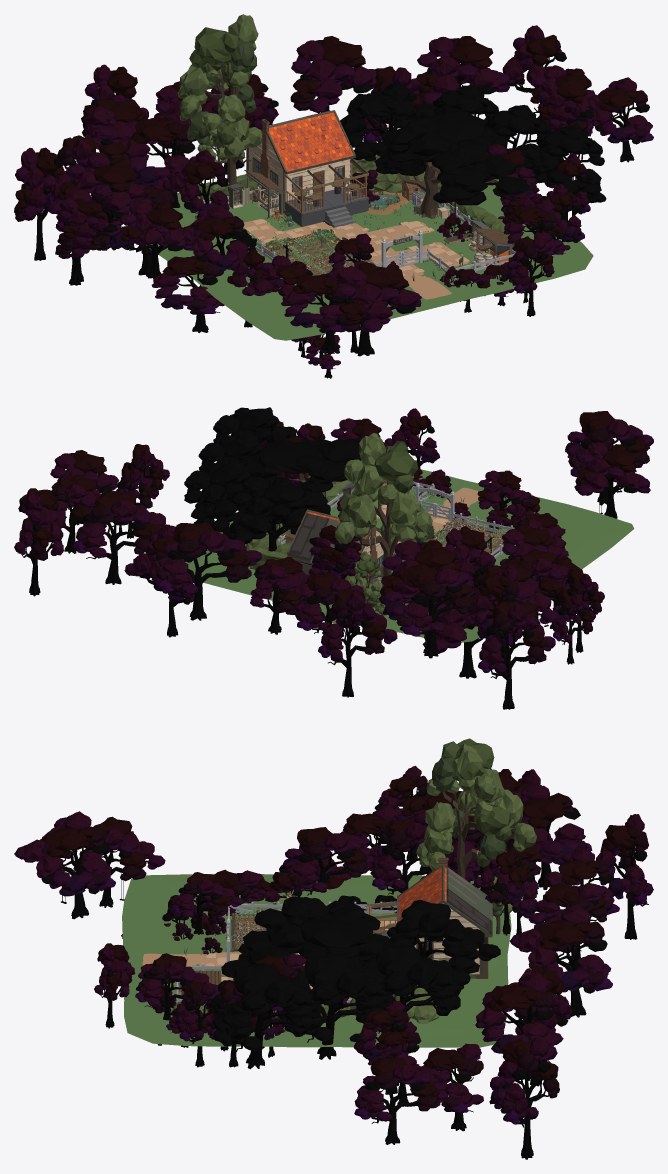
Rendered from Garden_Test-transformed.glb.
3 views of the same model, one above another, from view 1: azimuth 30°, elevation 25°; view 2: azimuth 150°, elevation 25°; view 3: azimuth 270°, elevation 25° (orthographic). The views are drawn at different scales.
Parts seen in each view (by area): view 1: Trees, ground, house, sidewalk, SM_Prop_Plant_Bush_03_Chilli14, garden_ALL_FARM_PACK_NEW_GARDEN_FENCE_SM_Prop_Fence_Fan_01d6, dark_tiles, SM_Bld_ProduceStand_03, Pond, SM_Bld_Shelter_03, SM_Prop_Chair_02; view 2: Trees, ground, house, garden_ALL_FARM_PACK_NEW_GARDEN_FENCE_SM_Prop_Fence_Fan_01d6, SM_Prop_Plant_Bush_03_Chilli14, sidewalk; view 3: Trees, ground, house, garden_ALL_FARM_PACK_NEW_GARDEN_FENCE_SM_Prop_Fence_Fan_01d6, SM_Prop_Plant_Bush_03_Chilli14, sidewalk.
Part boxes in pixels (x1=…): Trees: x1=14, y1=14, x2=653, y2=378; ground: x1=124, y1=179, x2=593, y2=340; house: x1=246, y1=110, x2=369, y2=227; sidewalk: x1=243, y1=219, x2=468, y2=299; SM_Prop_Plant_Bush_03_Chilli14: x1=257, y1=229, x2=373, y2=275; garden_ALL_FARM_PACK_NEW_GARDEN_FENCE_SM_Prop_Fence_Fan_01d6: x1=203, y1=171, x2=515, y2=278; dark_tiles: x1=245, y1=219, x2=469, y2=276; SM_Bld_ProduceStand_03: x1=435, y1=219, x2=514, y2=279; Pond: x1=365, y1=189, x2=408, y2=214; SM_Bld_Shelter_03: x1=244, y1=170, x2=283, y2=218; SM_Prop_Chair_02: x1=294, y1=177, x2=360, y2=209; Trees: x1=14, y1=407, x2=653, y2=709; ground: x1=183, y1=469, x2=634, y2=642; house: x1=287, y1=509, x2=405, y2=623; garden_ALL_FARM_PACK_NEW_GARDEN_FENCE_SM_Prop_Fence_Fan_01d6: x1=278, y1=480, x2=514, y2=557; SM_Prop_Plant_Bush_03_Chilli14: x1=433, y1=517, x2=504, y2=556; sidewalk: x1=376, y1=487, x2=479, y2=553; Trees: x1=14, y1=738, x2=653, y2=1159; ground: x1=122, y1=874, x2=511, y2=1047; house: x1=366, y1=857, x2=492, y2=978; garden_ALL_FARM_PACK_NEW_GARDEN_FENCE_SM_Prop_Fence_Fan_01d6: x1=176, y1=901, x2=396, y2=1004; SM_Prop_Plant_Bush_03_Chilli14: x1=231, y1=905, x2=279, y2=951; sidewalk: x1=142, y1=920, x2=396, y2=981.
Bounding box in the file's own units: 62.09 × 24.59 × 55.68.
Materials: 5 (4 with a texture image).
